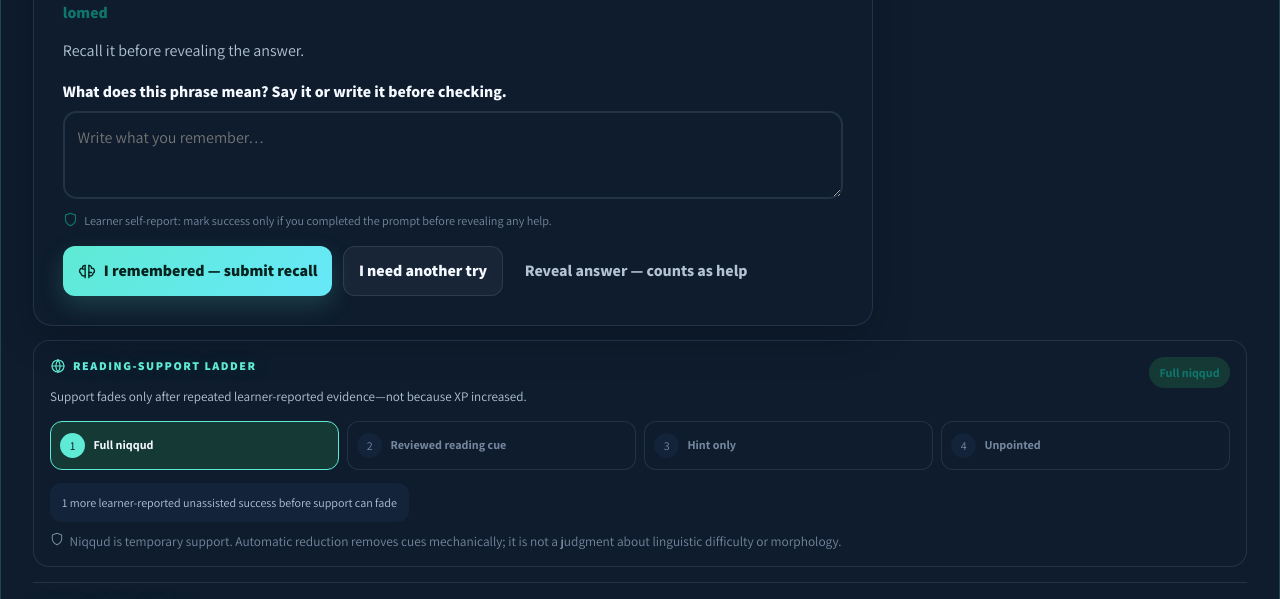
Test: LearningCoreJourney › never shows a transition explanation from one item against a different next item
(page scrolled)
Click the button "I remembered — submit recall": (198, 271) [63,246,332,296]
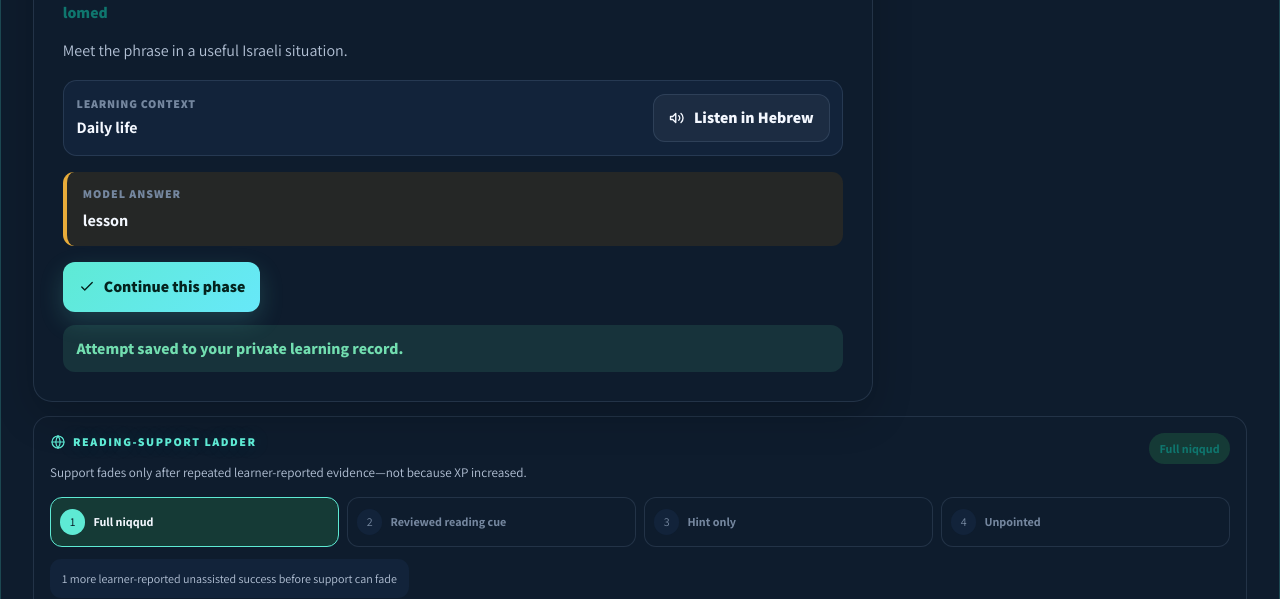
Now the text "Attempt saved to your private learning record." is shown, box [63,325,844,372]
